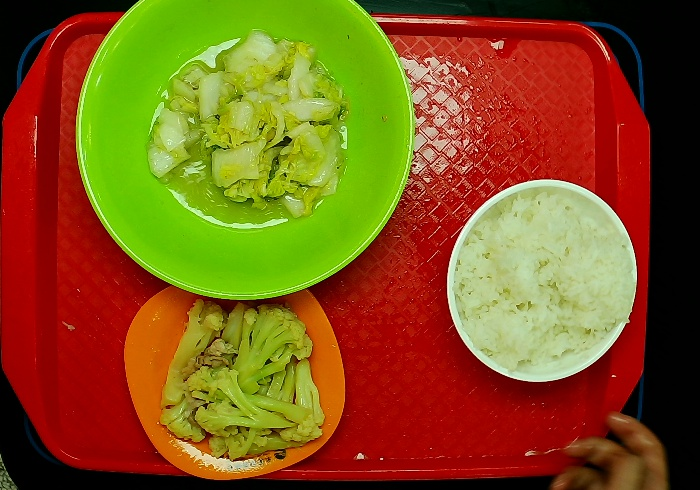YKMZ-Fan_Wan: (447, 175, 639, 383)
YKMZ-Ju_Se_Fang_Die: (123, 274, 347, 482)
YKMZ-Lv_Se_Tang_Wan: (76, 1, 415, 301)
